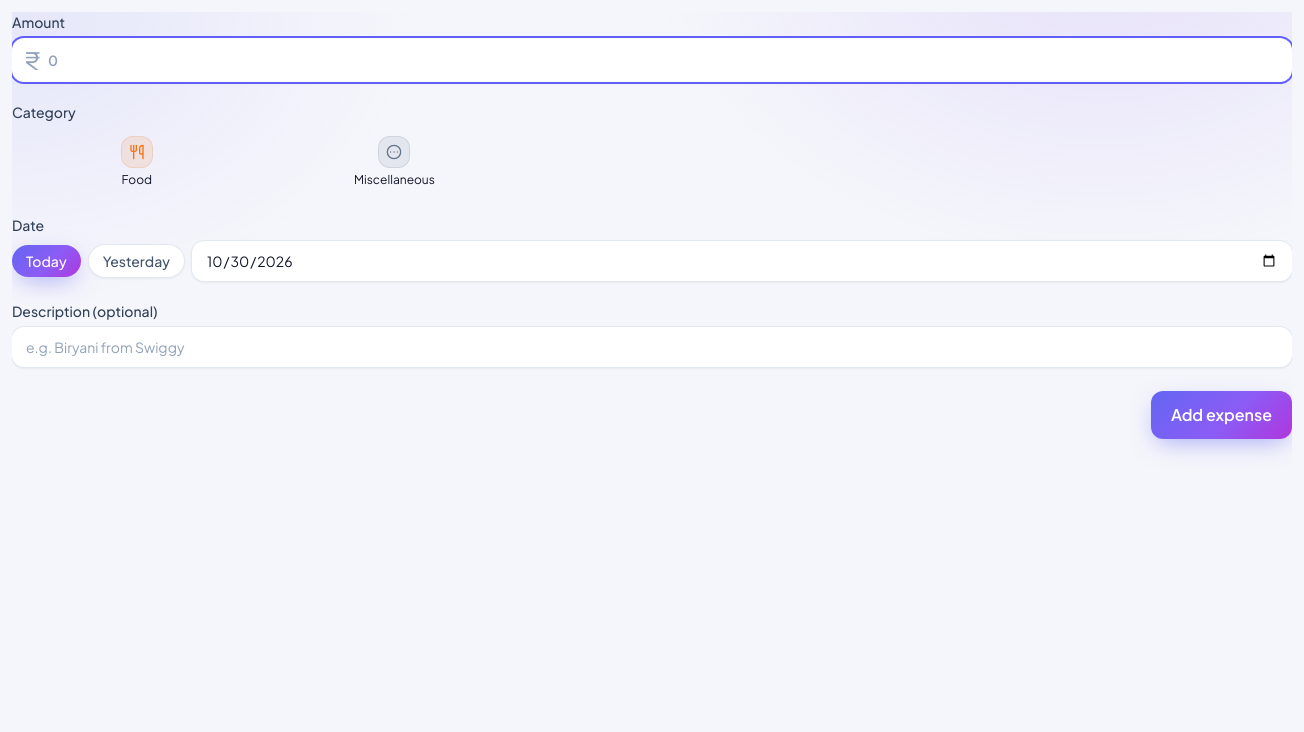
Test: ExpenseForm › rejects an amount with more than 2 decimals
The width and height of the screenshot is (1304, 732).
Type "10.555" into the field labelled "Amount" at (652, 60), box [12, 38, 1292, 82]
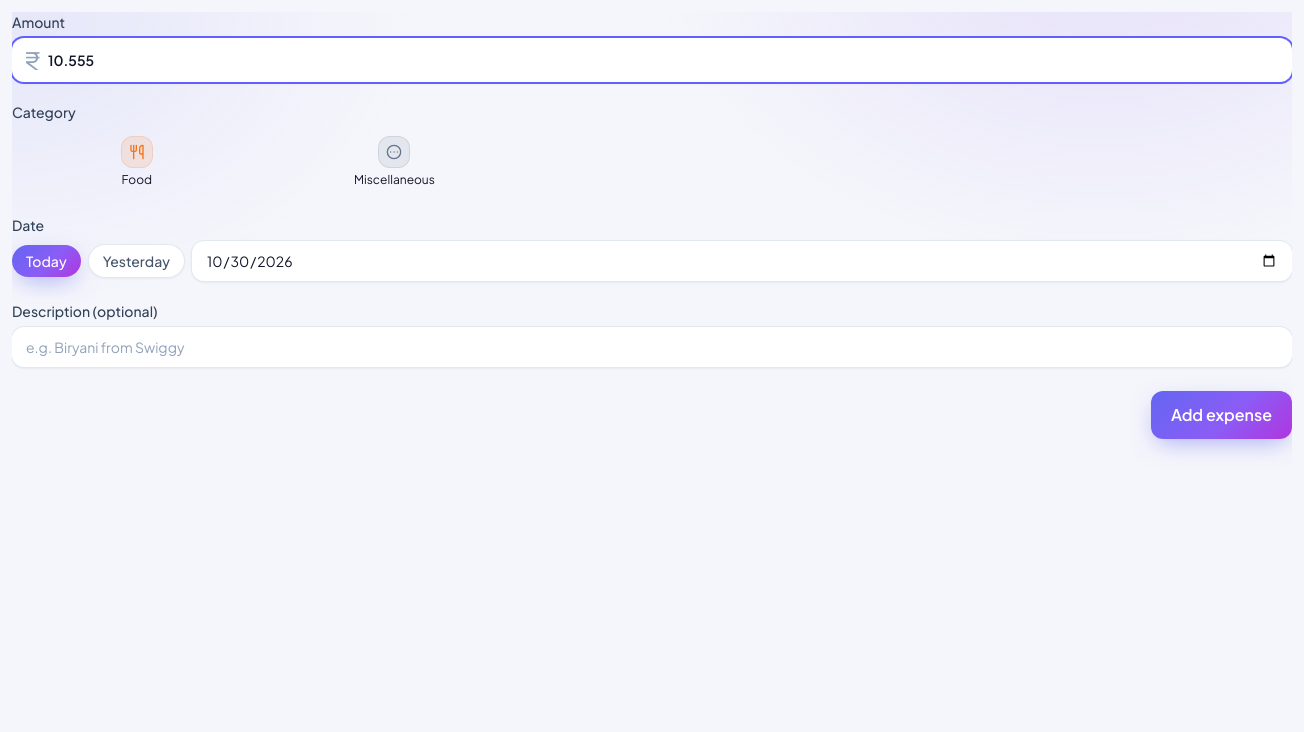
Click the button "Add expense" at (1221, 415), box [1151, 391, 1292, 439]
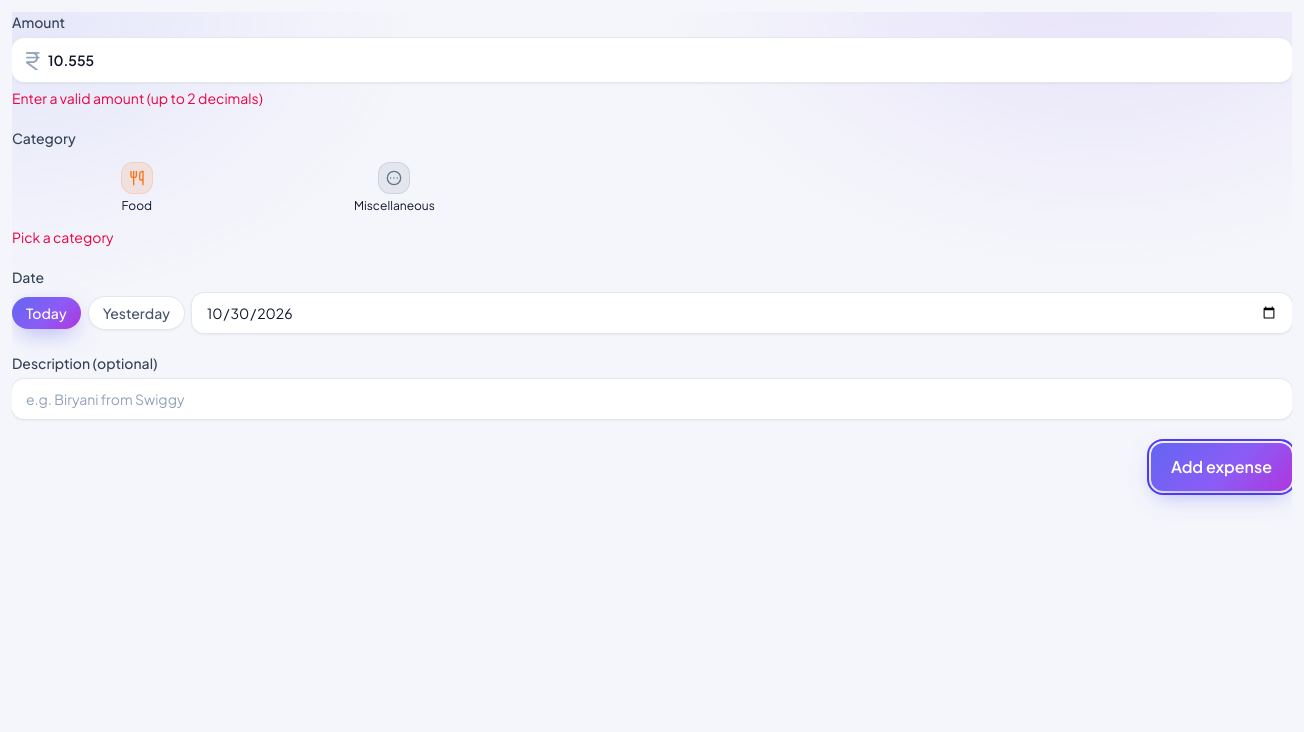
expect the text "Enter a valid amount (up to 2 decimals)" is shown: met, box [12, 89, 263, 107]
